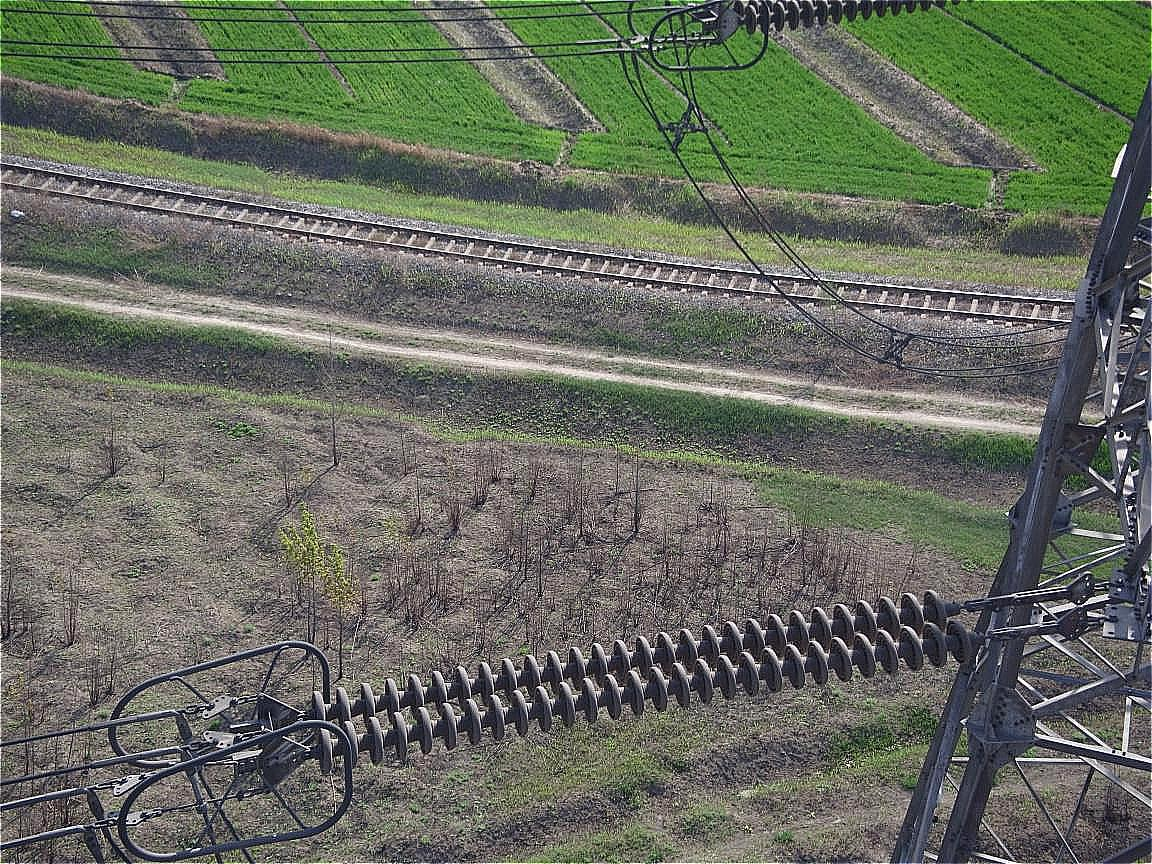insultor1: (311, 589, 974, 770)
